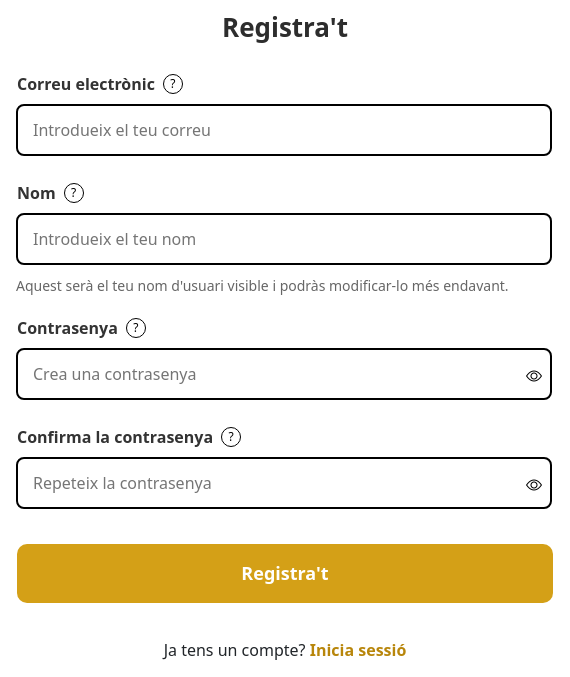
Registre component › shows name tooltip message when is clicked
What coordinates should you click on to do the following:
click the 2nd button with class "tooltip-btn"
I would click on:
 (74, 193)
Its box is [64,183,84,203].
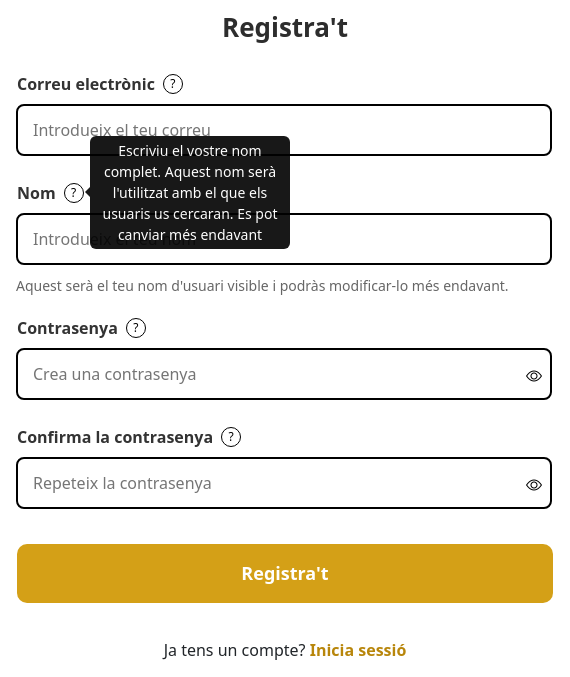
Expected: the tooltip with class "tooltip" is shown, [90,136,290,249]
Expected: the text "Escriviu el vostre nom complet" is shown, [103,141,278,244]
